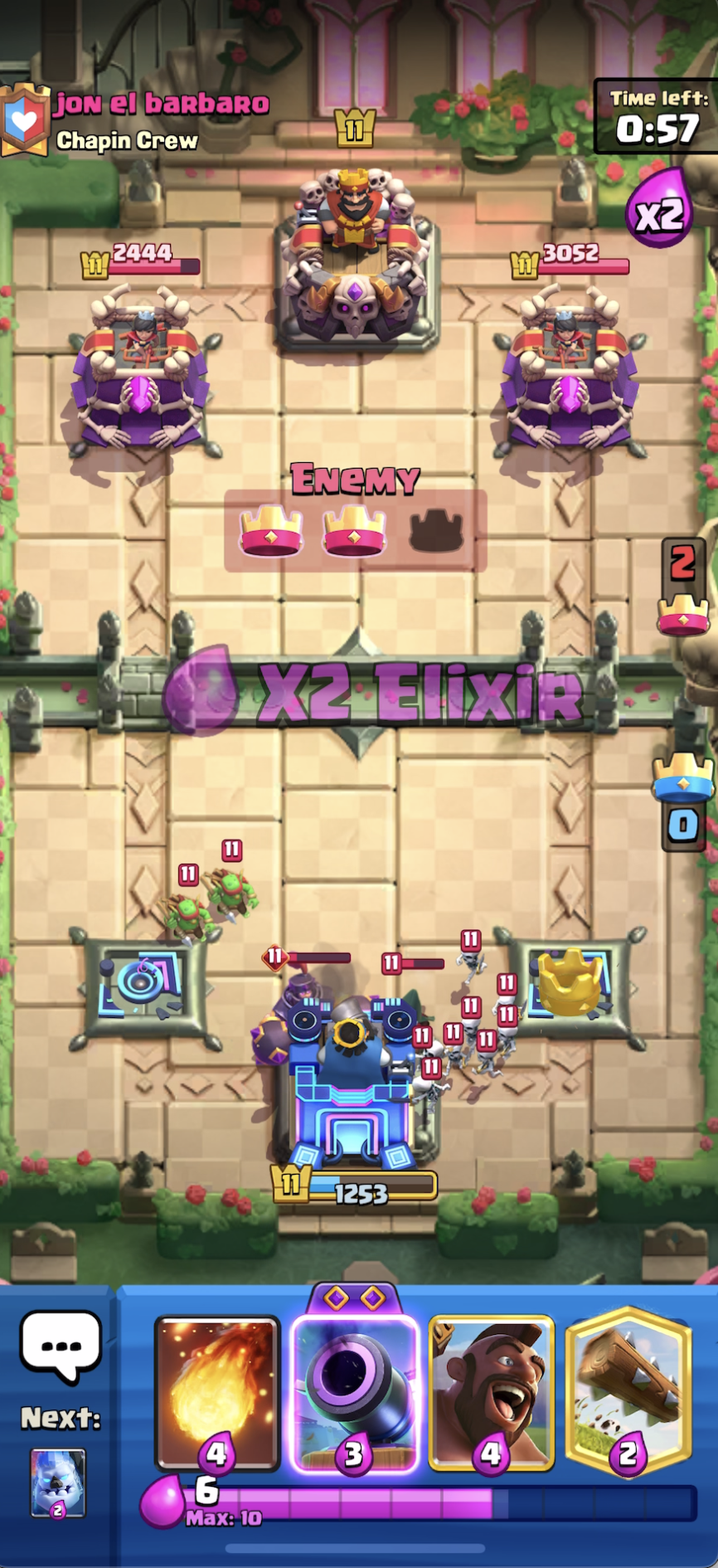mega-knight: (251, 946, 358, 1072)
skeletons: (406, 1059, 452, 1115), (455, 921, 493, 981), (494, 1006, 528, 1062), (456, 996, 484, 1058), (488, 971, 523, 1020), (419, 1026, 445, 1076)
spear-goblin: (198, 837, 266, 926), (155, 860, 218, 951)
